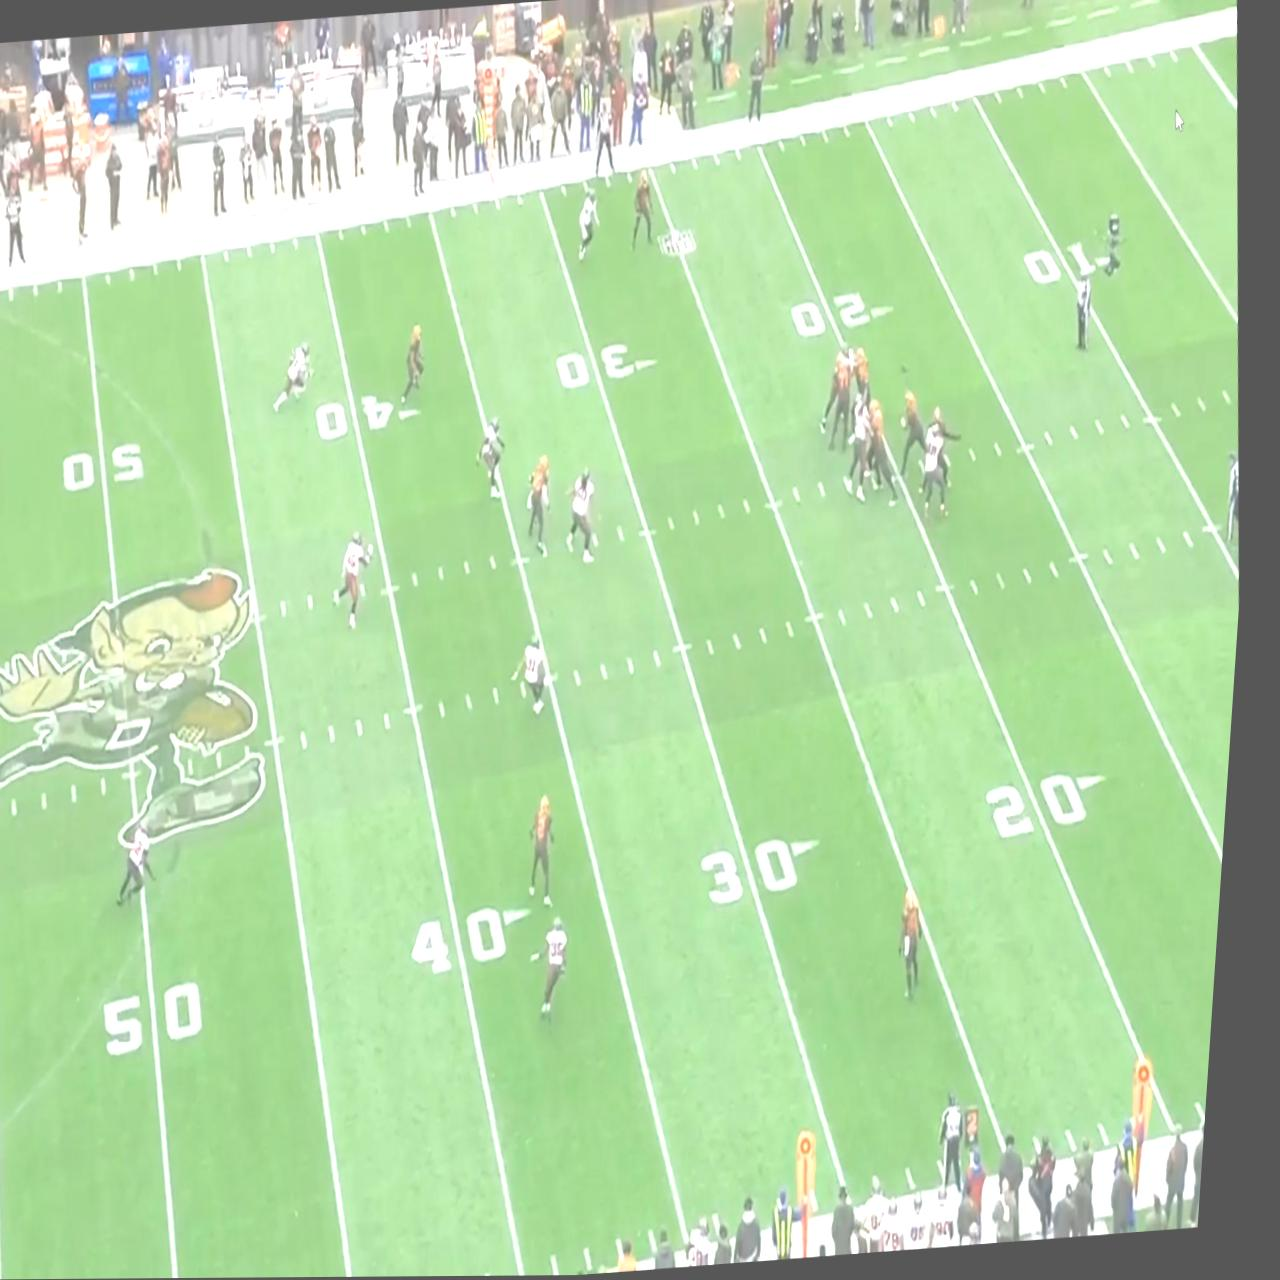10R: (1026, 243, 1124, 287)
20R: (992, 771, 1123, 844), (792, 291, 901, 340)
30R: (709, 836, 836, 908), (559, 339, 668, 393)
40R: (422, 903, 550, 980), (318, 392, 431, 443)
50: (113, 979, 222, 1057), (66, 441, 154, 493)
